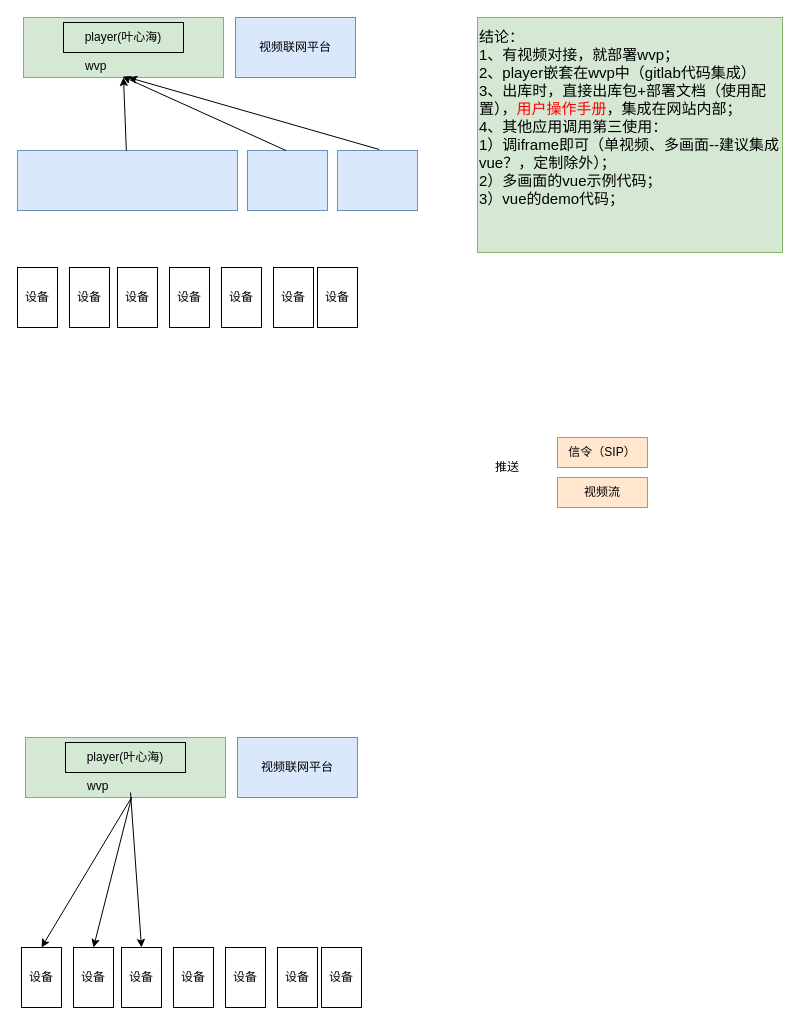
This 800x1025 diagram has some shape labels left out. The shapes that lost their labels are listed below. From the top down, each one's centre as x and y in pixels, then its label:
[127,180]: 28281/rtsp 等视频平台
[287,180]: 28281/rtsp 等视频平台 (大华）
[377,180]: 28281/rtsp 等视频平台 (海康）
